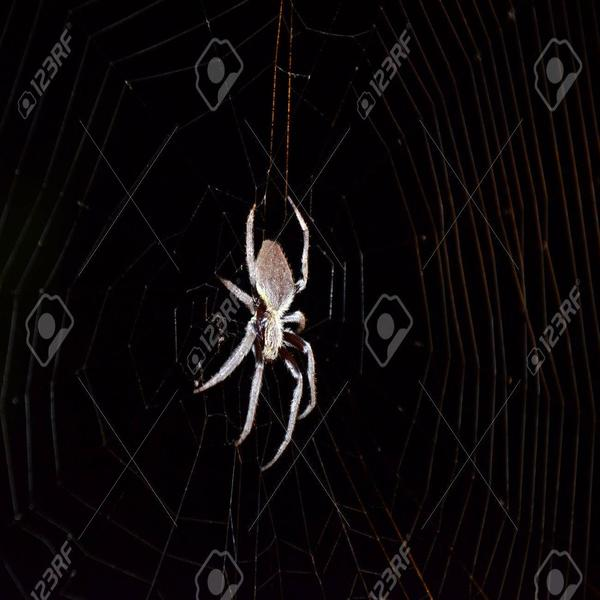Garden Orb Weaver Spider: (202, 205, 320, 464)
